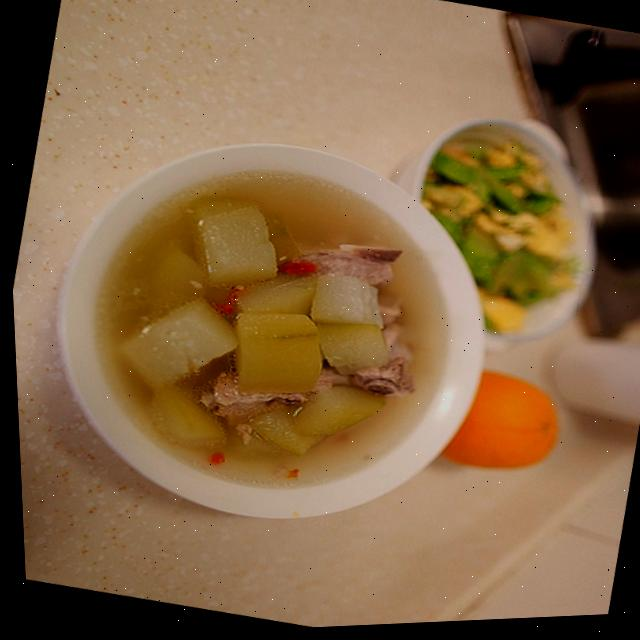汤锅炖物: (18, 74, 519, 587)
